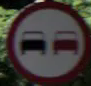No overtake: (7, 1, 84, 76)
